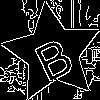B: (27, 27, 77, 83)
